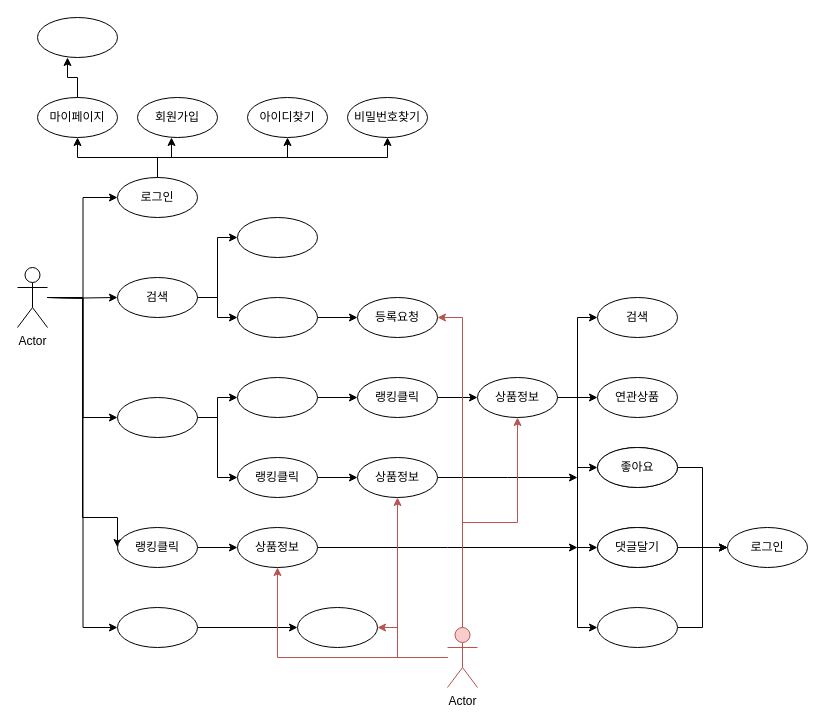
Image size: 825x726. Some labels were removed from this diagram. Here are the shapes that lost their labels. From the top down, the centre of each, then its label:
[77,37]: 내정보관리
[277,237]: 검색결과O
[277,317]: 검색결과X
[157,417]: 카테고리(대)클릭
[277,397]: 카테고리(소)클릭
[157,627]: 고객센터
[337,627]: 문의하기
[637,627]: 뒤로가기
